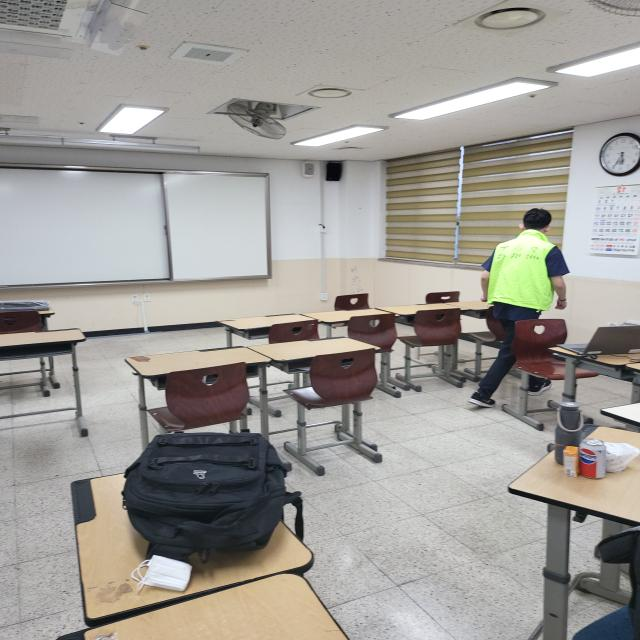weston_spy: (479, 224, 568, 314)
